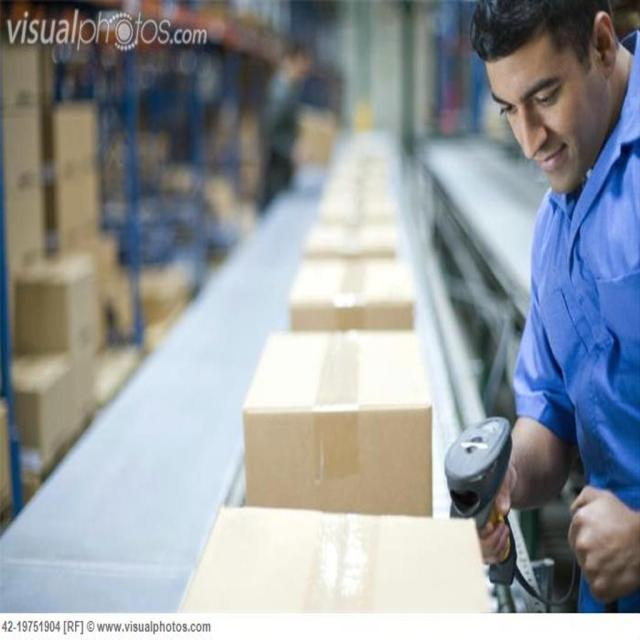Face: (474, 41, 609, 194)
